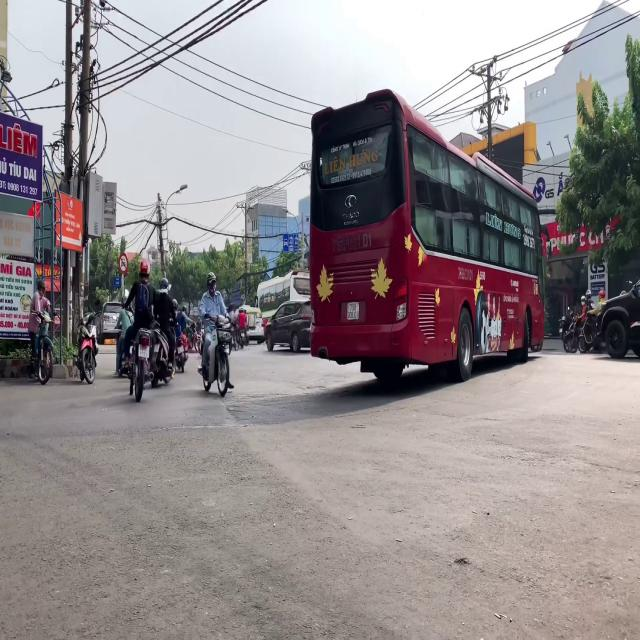bien_trang: (347, 302, 360, 321)
